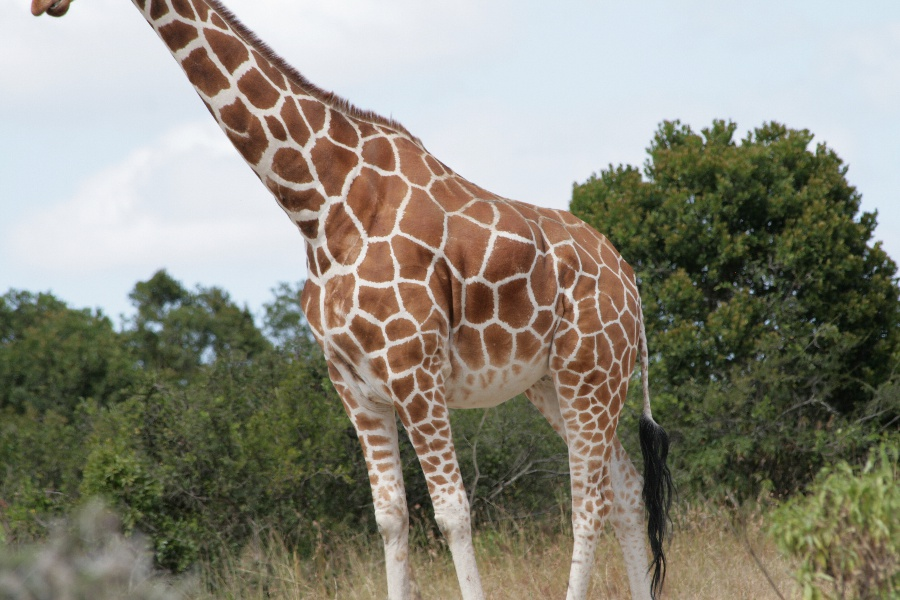giraffe: (21, 0, 675, 598)
